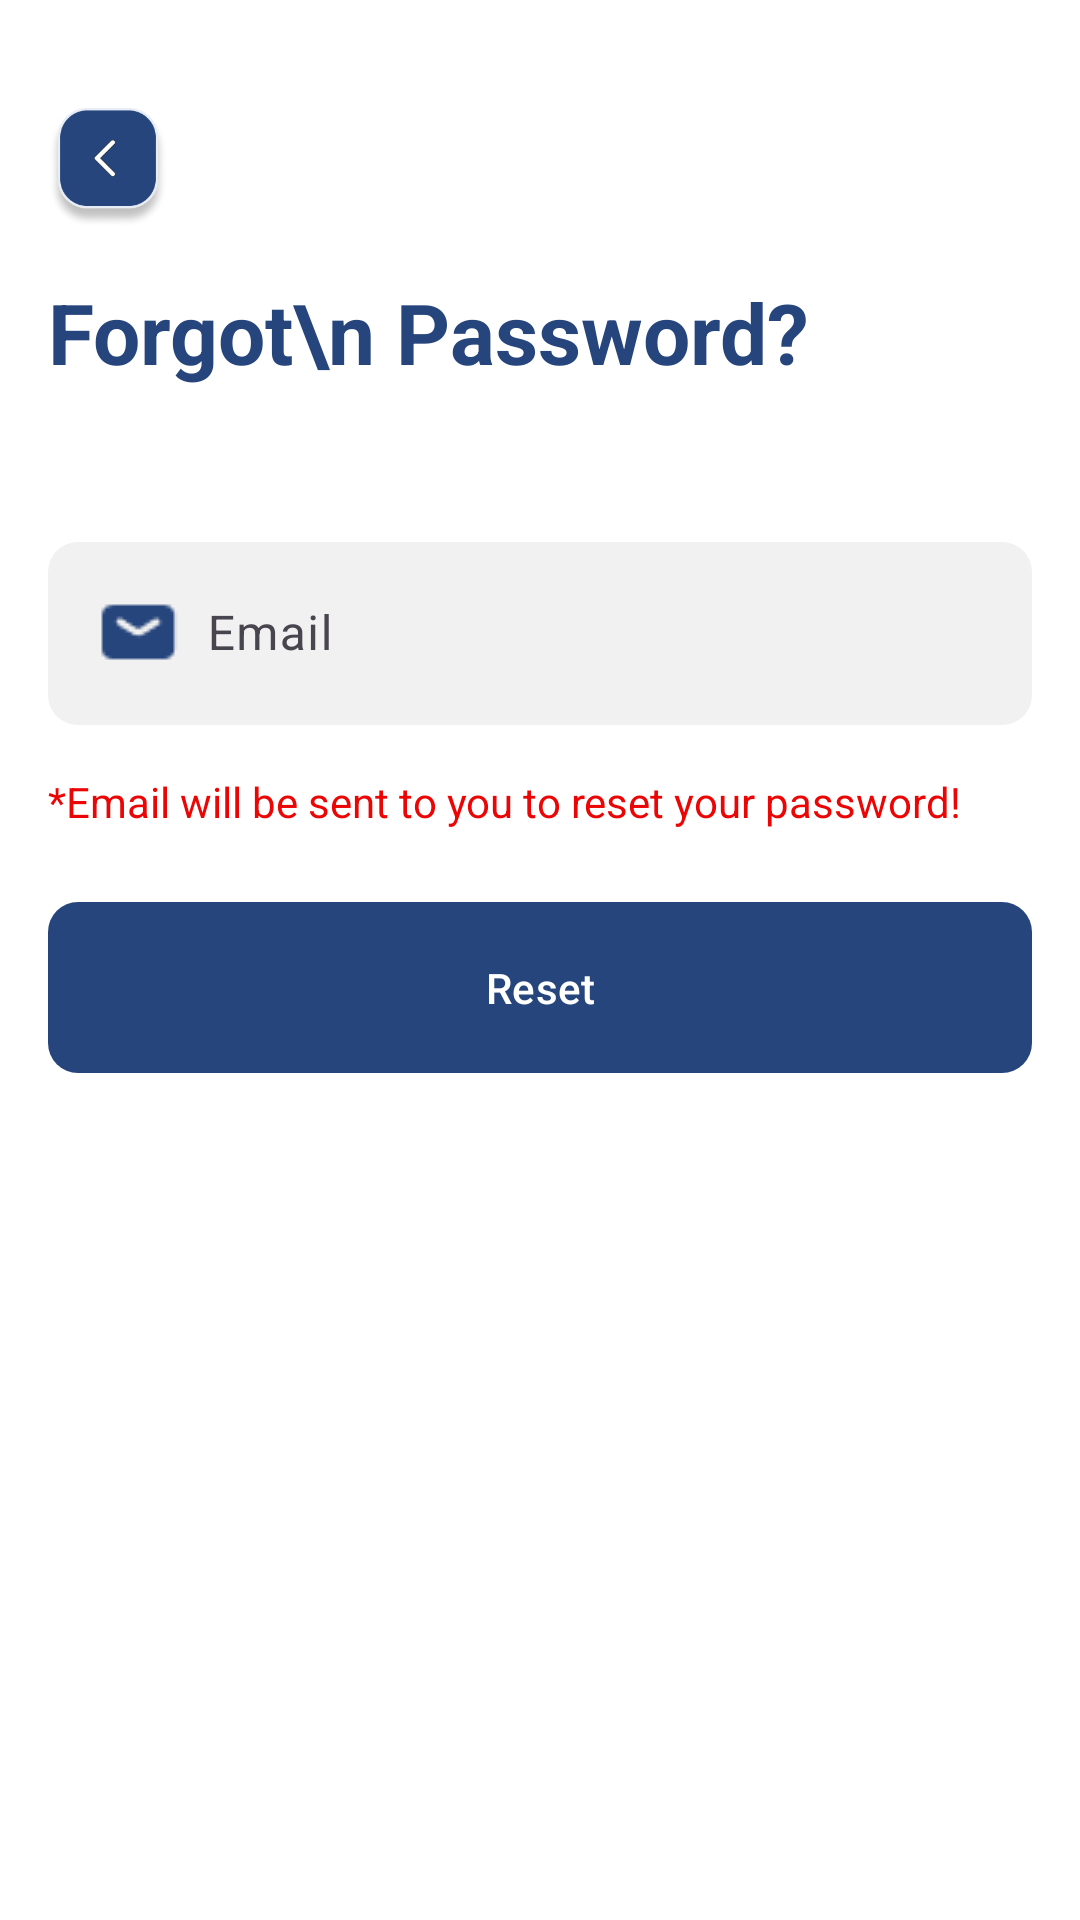

Icons on this 1080 × 1920 Android screen, each with the point to tap as (x=x, y=y):
Back: (x=108, y=165)
